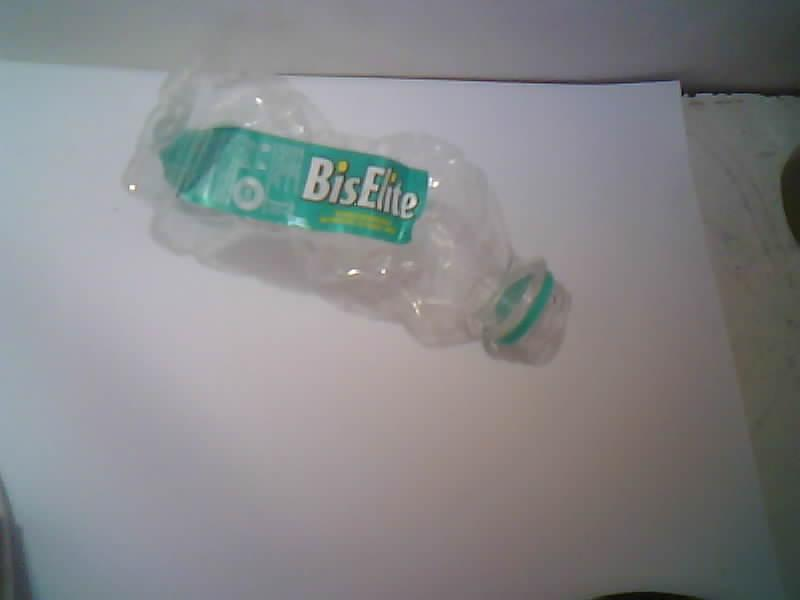non-biodegradable: (126, 70, 568, 364)
